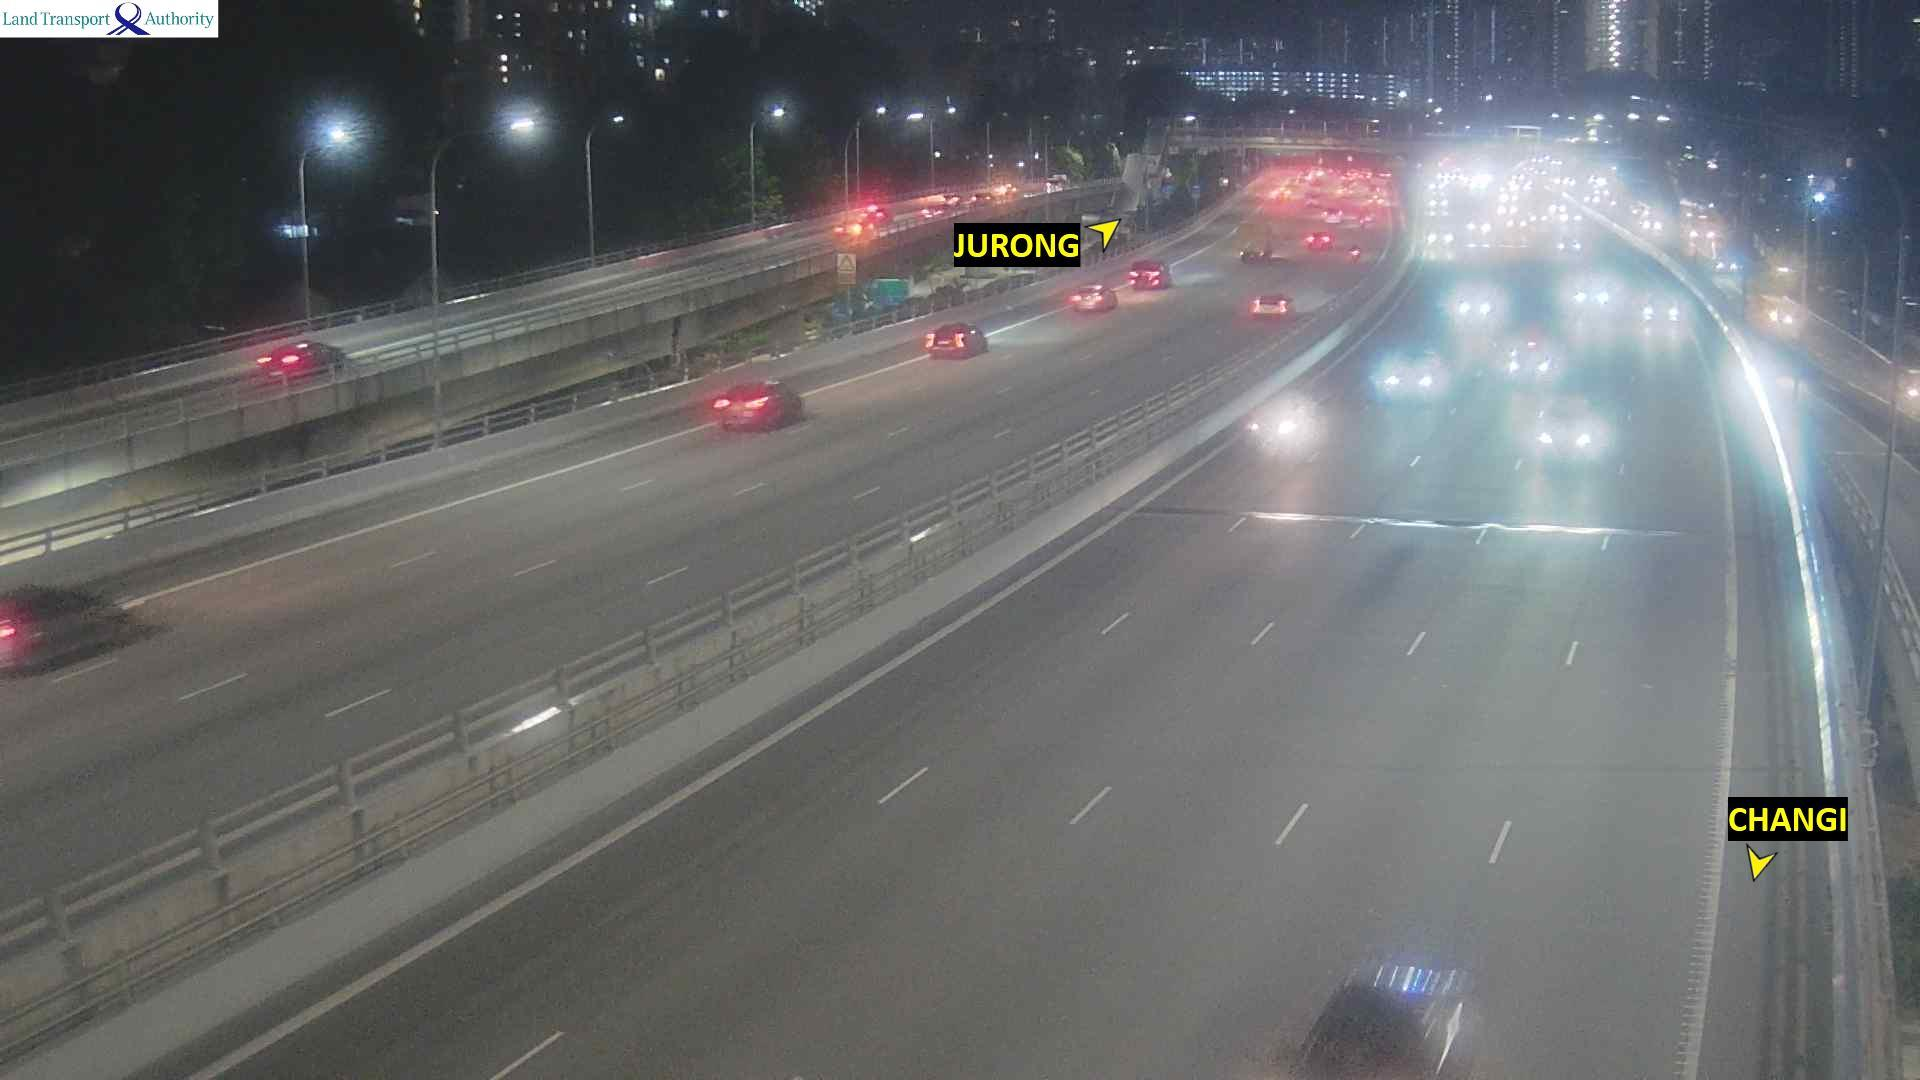incoming: (1531, 397, 1606, 459), (1378, 349, 1448, 398), (1503, 345, 1556, 384)
